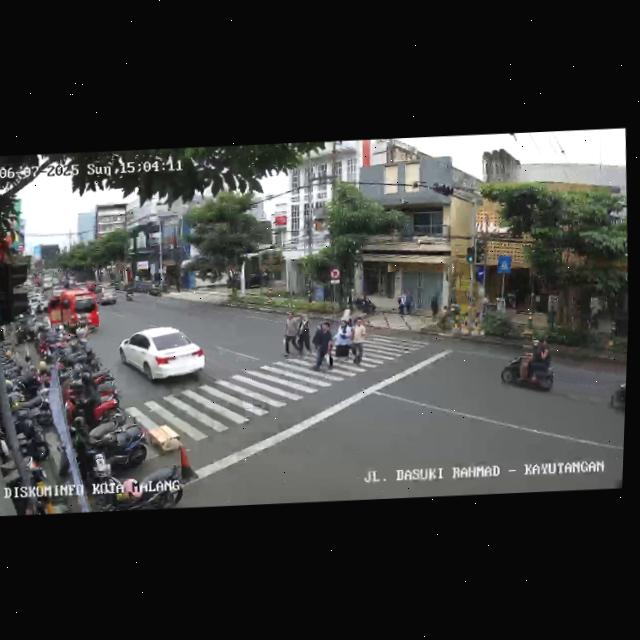car: (116, 324, 209, 390), (44, 287, 101, 337), (97, 286, 122, 309)
motorcycle: (497, 340, 559, 399)
person: (310, 320, 335, 371), (280, 311, 302, 354), (332, 319, 353, 362), (350, 317, 367, 367), (295, 314, 313, 359)
